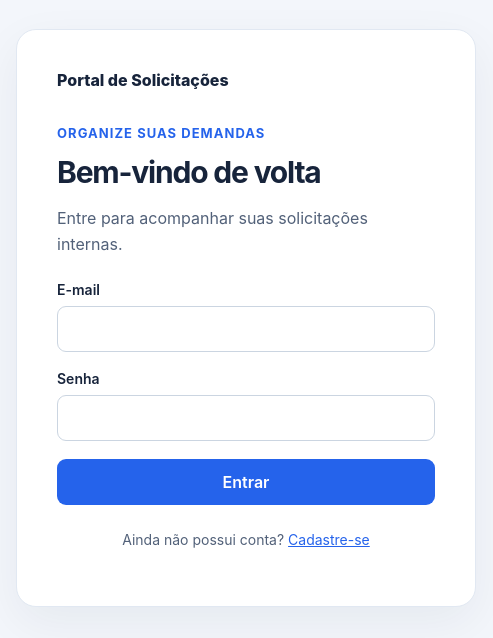
Formulários de autenticação › impede login com e-mail inválido
The width and height of the screenshot is (493, 638).
Type "invalido" into the field labelled "E-mail" at (246, 329), box x1=57 y1=306 x2=435 y2=352
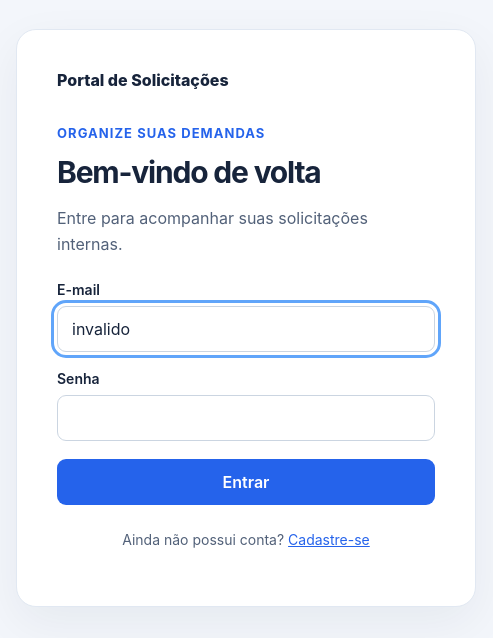
Type "Teste12345!" into the password field labelled "Senha" at (246, 418), box x1=57 y1=395 x2=435 y2=441
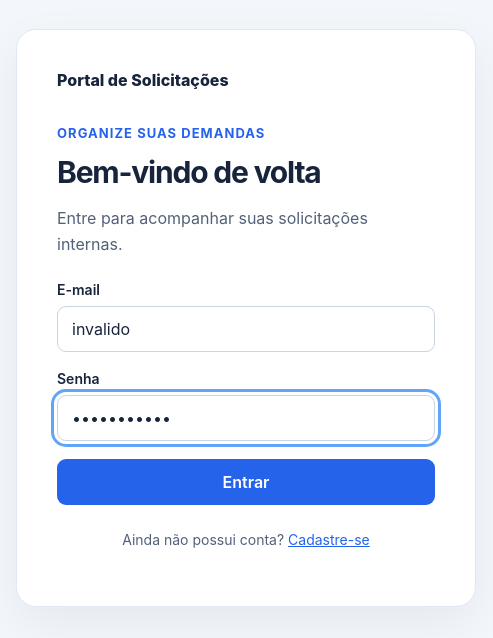
Click the button "Entrar" at (246, 482), box x1=57 y1=459 x2=435 y2=505
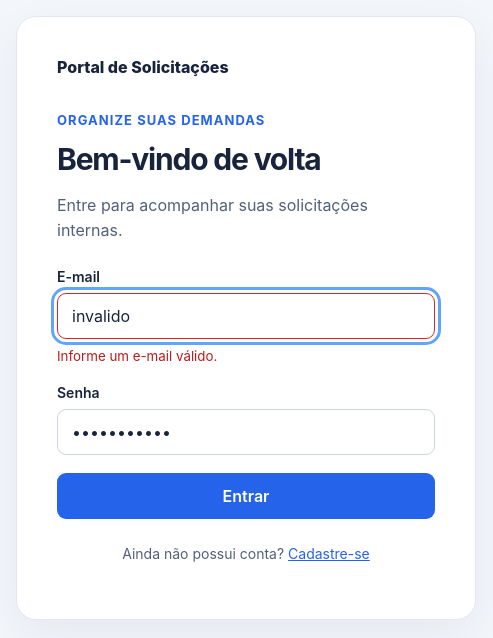
Check: the text "Informe um e-mail válido." is shown, box x1=57 y1=348 x2=217 y2=364
